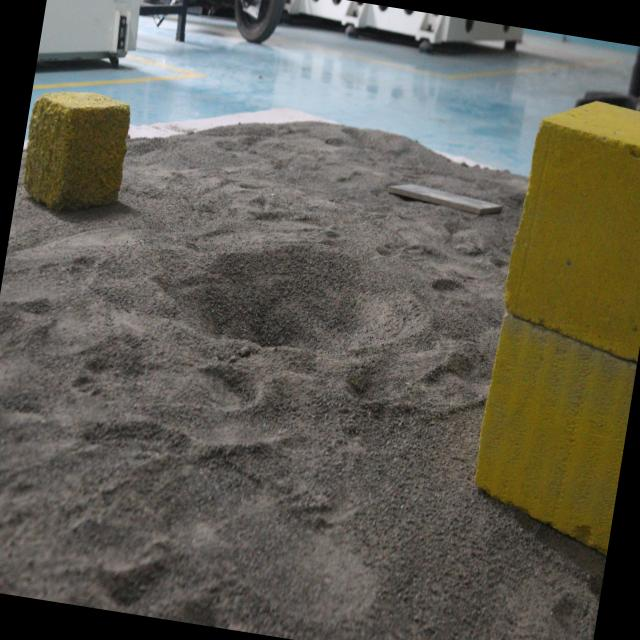box: (471, 93, 640, 545), (18, 88, 136, 216)
crater: (144, 215, 422, 393)
